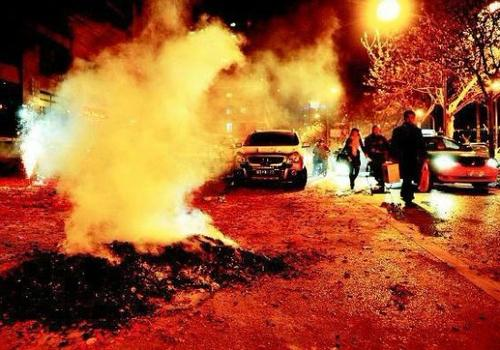smoke: (23, 35, 234, 236)
